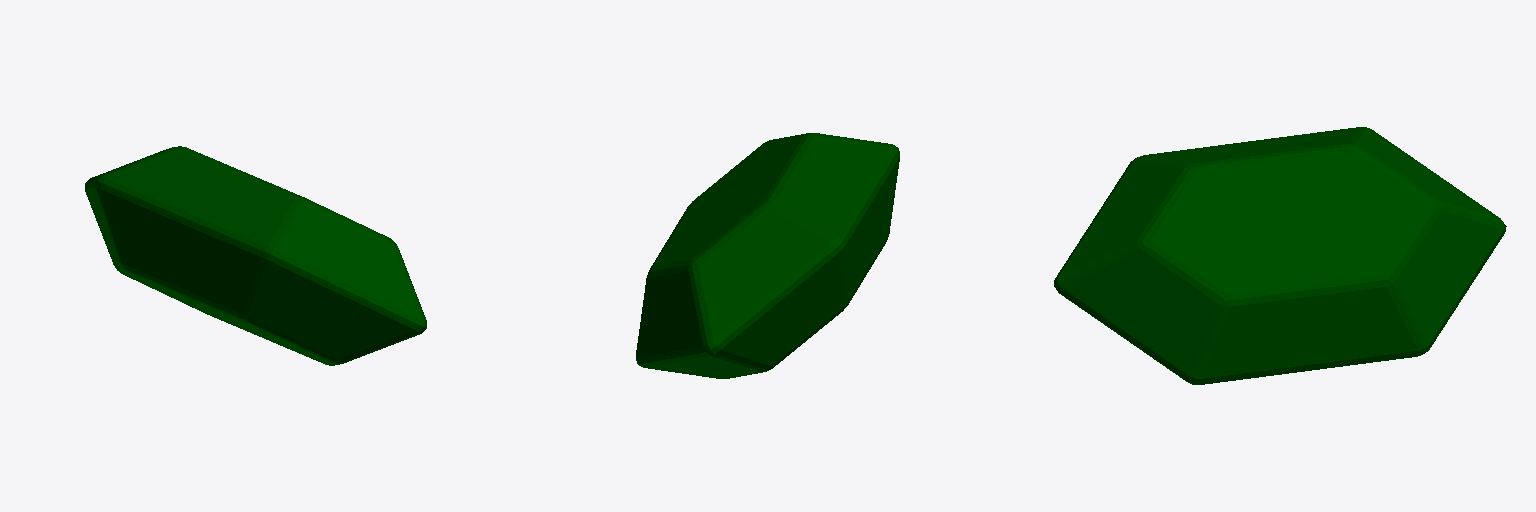
The model's file is Rupia.002.obj.
The picture shows the model from 3 angles: view 1: azimuth 30°, elevation 25°; view 2: azimuth 150°, elevation 25°; view 3: azimuth 270°, elevation 25°; orthographic projection.
Visible parts, largest first — view 1: Rupia.002; view 2: Rupia.002; view 3: Rupia.002.
Boxes of the visible parts, <box> form: Rupia.002: <box>85,146,426,365</box>; Rupia.002: <box>636,133,899,378</box>; Rupia.002: <box>1054,127,1506,384</box>.
Size of the model in its own units: 0.1161 by 0.0872 by 0.1951.